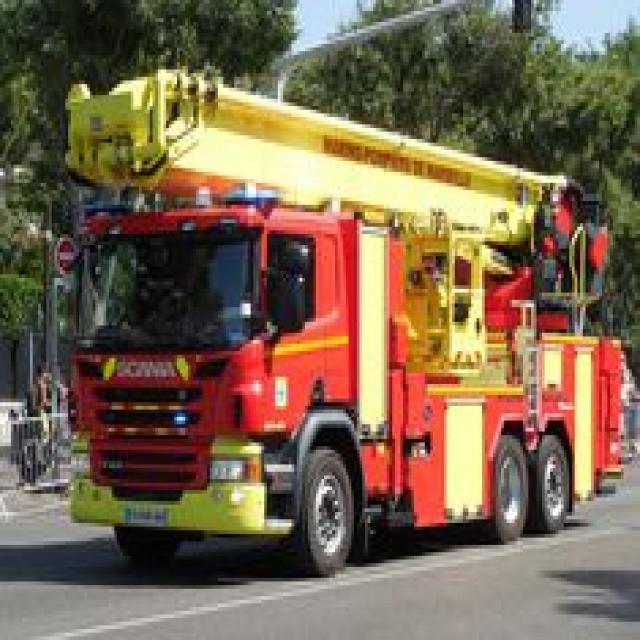pompier: (46, 78, 640, 593)
